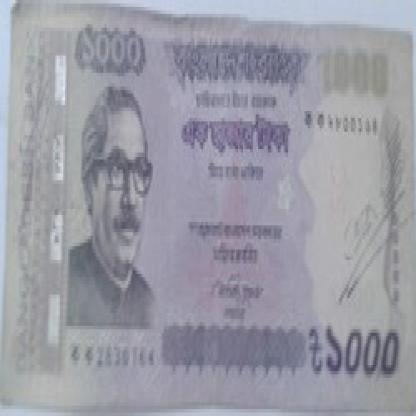One Thousand taka: (306, 319, 406, 392), (78, 27, 145, 80)
